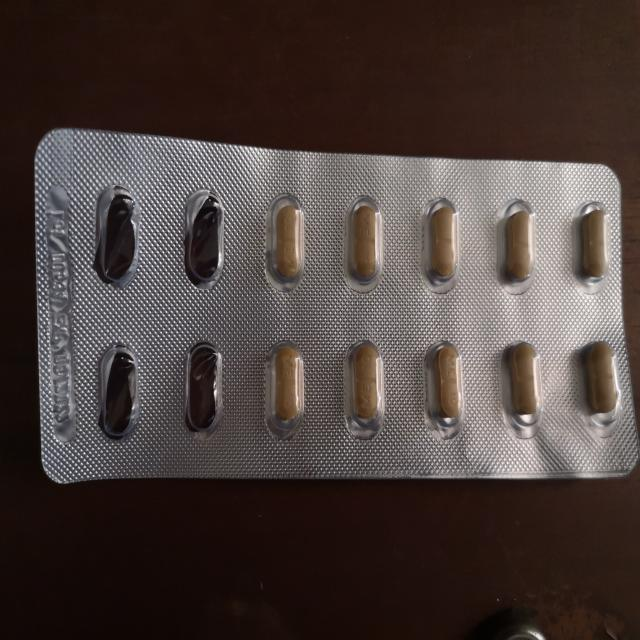Empty: (178, 186, 233, 294), (90, 183, 144, 290), (92, 339, 144, 447), (180, 336, 227, 436)
Pill: (338, 333, 389, 441), (262, 187, 312, 294), (415, 189, 464, 295), (340, 195, 390, 298), (263, 338, 311, 442), (496, 336, 548, 432), (494, 194, 540, 292), (423, 338, 470, 431), (578, 336, 625, 424), (574, 196, 616, 294)
